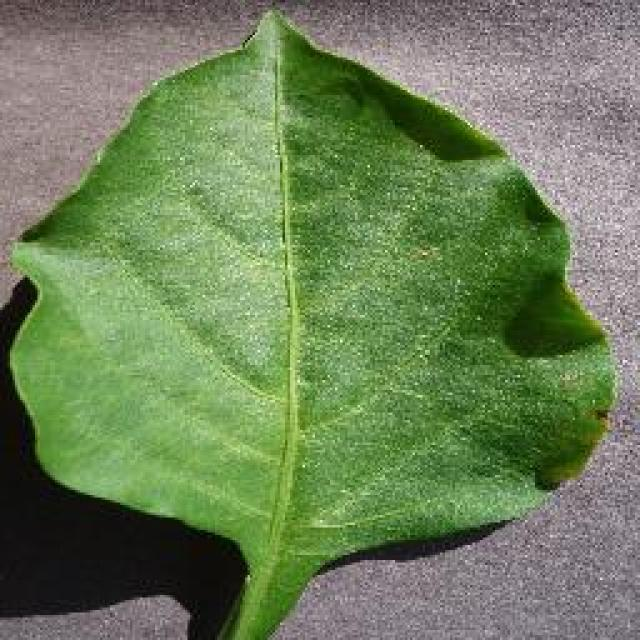Chilli_Healthy: (5, 5, 617, 637)
